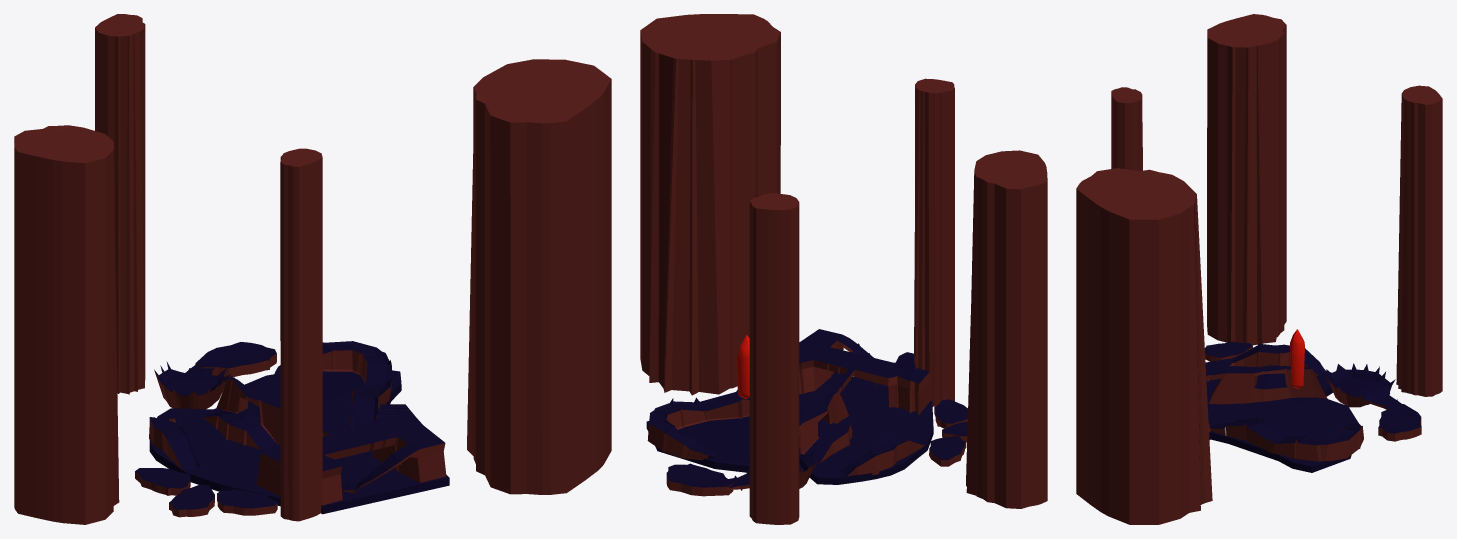
File: AshenRuinsV5Rough.fbx
The picture shows the model from 3 angles, left to right: view 1: azimuth 30°, elevation 25°; view 2: azimuth 150°, elevation 25°; view 3: azimuth 270°, elevation 25°; orthographic projection. The views are drawn at different scales.
Parts seen in each view (by area): view 1: Plane.105, Plane.103, Plane.069, Plane.104, Plane.057, Plane.056, Plane.068, Plane.088, Plane.090, Plane.041, Plane.055, Plane.058 (+2 smaller); view 2: Plane.105, Plane.103, Plane.104, Plane.069, Plane.057, Plane.056, Plane.068, Plane.041, Plane.090, Plane.055, Plane.060, Plane.088 (+2 smaller); view 3: Plane.105, Plane.103, Plane.104, Plane.057, Plane.068, Plane.056, Plane.069, Plane.088, Plane.041, Plane.090, Cube.302, Plane.060.
Part boxes in pixels (x1,y1,x2,y2): Plane.105: (467,59,611,494); Plane.103: (14,125,119,524); Plane.069: (280,148,322,521); Plane.104: (95,14,145,394); Plane.057: (149,370,449,514); Plane.056: (216,376,446,505); Plane.068: (273,341,392,428); Plane.088: (154,361,230,409); Plane.090: (195,342,276,377); Plane.041: (149,417,200,471); Plane.055: (202,410,277,449); Plane.058: (217,489,277,515); Plane.105: (640,14,780,395); Plane.103: (966,150,1047,508); Plane.104: (749,193,799,524); Plane.069: (914,78,954,406); Plane.057: (646,372,933,484); Plane.056: (799,329,930,454); Plane.068: (647,389,749,460); Plane.041: (838,434,924,476); Plane.090: (666,463,733,496); Plane.055: (803,421,852,463); Plane.060: (929,436,966,466); Plane.088: (724,447,818,490); Plane.105: (1076,168,1212,524); Plane.103: (1207,14,1286,345); Plane.104: (1396,85,1442,396); Plane.057: (1205,359,1358,472); Plane.068: (1209,417,1363,461); Plane.056: (1206,364,1327,431); Plane.069: (1111,87,1142,171); Plane.088: (1326,363,1401,409); Plane.041: (1229,344,1326,376); Plane.090: (1378,404,1421,441); Cube.302: (1290,329,1304,388); Plane.060: (1204,341,1252,361).
Bounding box in the file's own units: 9021 × 6211 × 6729.
